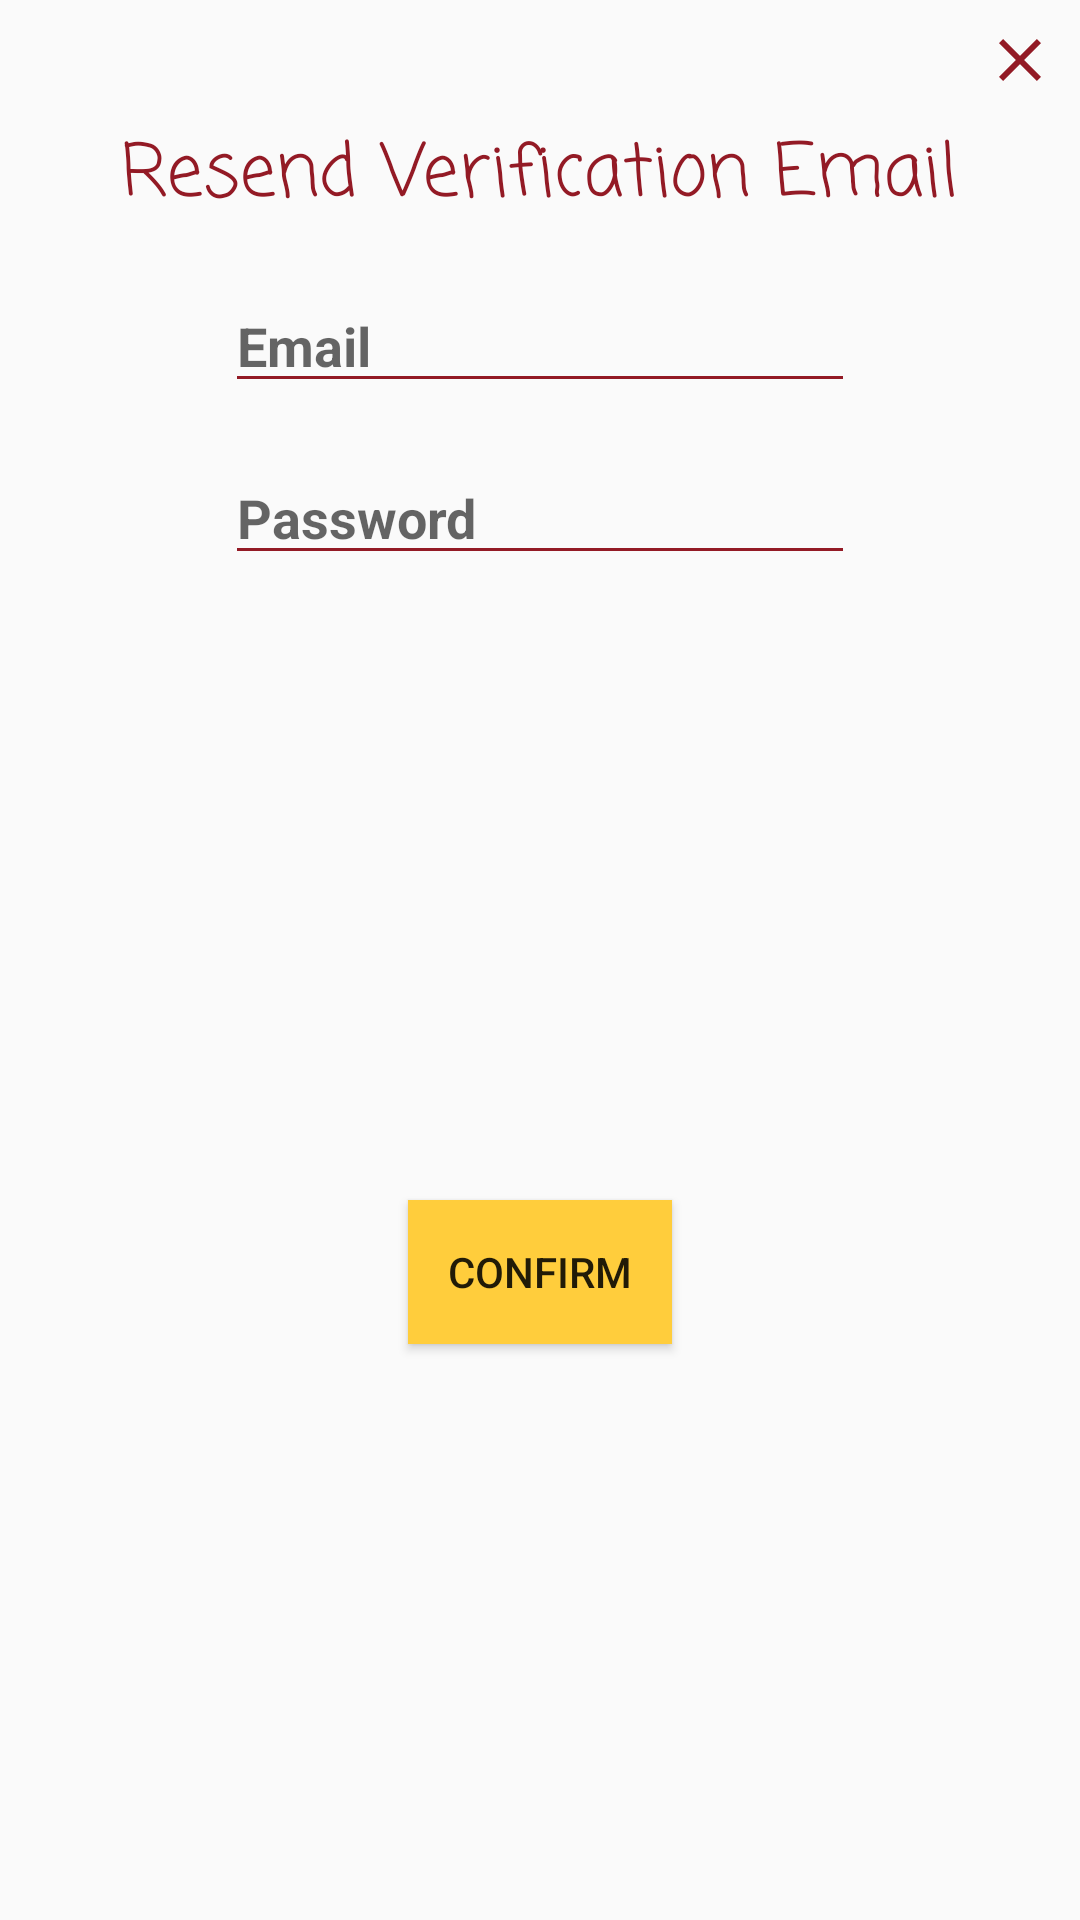

Named icons in this screenshot (1080 × 1920) and their bounding boxes, (x1, y1, x2, y2):
close: (999, 39, 1041, 81)
